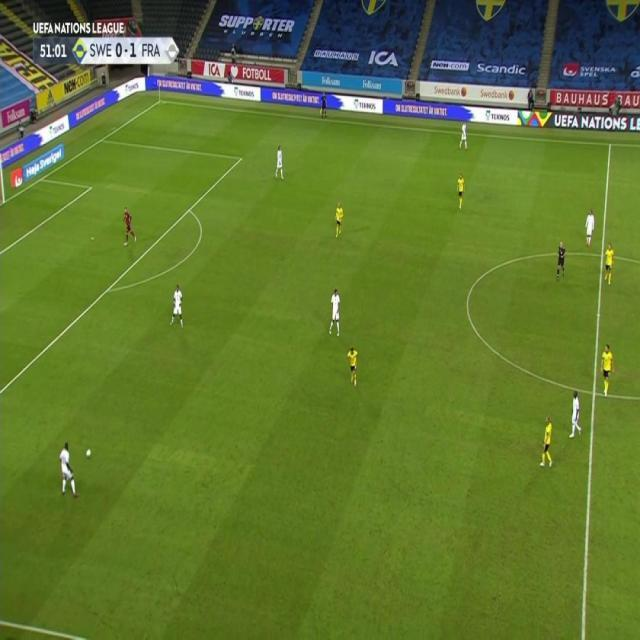ball: (85, 446, 92, 459)
goalkeeper: (120, 206, 135, 245)
player: (57, 441, 79, 499), (599, 342, 615, 396), (539, 415, 555, 469), (328, 286, 343, 338), (169, 283, 185, 331), (568, 389, 583, 439), (602, 242, 615, 287), (346, 345, 359, 388), (583, 208, 596, 247), (274, 144, 285, 181), (456, 172, 466, 211), (334, 201, 344, 239), (459, 120, 469, 150)
referee: (555, 238, 567, 280), (320, 92, 329, 120)
